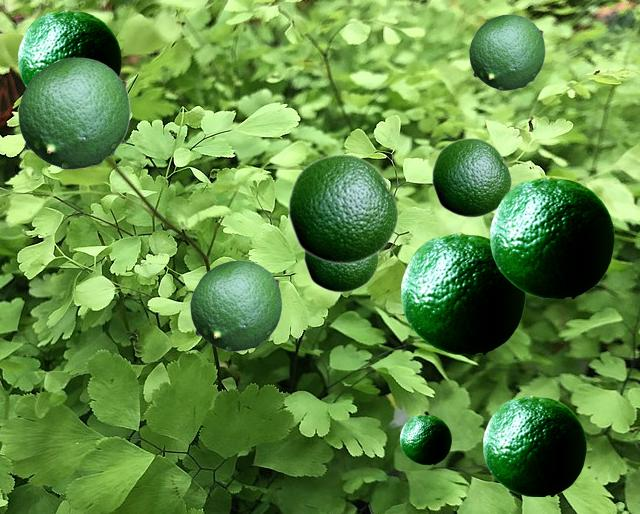calamansi: (401, 232, 524, 353), (490, 176, 613, 297), (287, 153, 398, 264), (18, 57, 129, 168), (483, 395, 585, 495), (190, 260, 281, 350), (18, 9, 120, 87), (431, 137, 511, 217), (469, 14, 544, 89), (303, 252, 378, 292), (400, 414, 450, 463)
